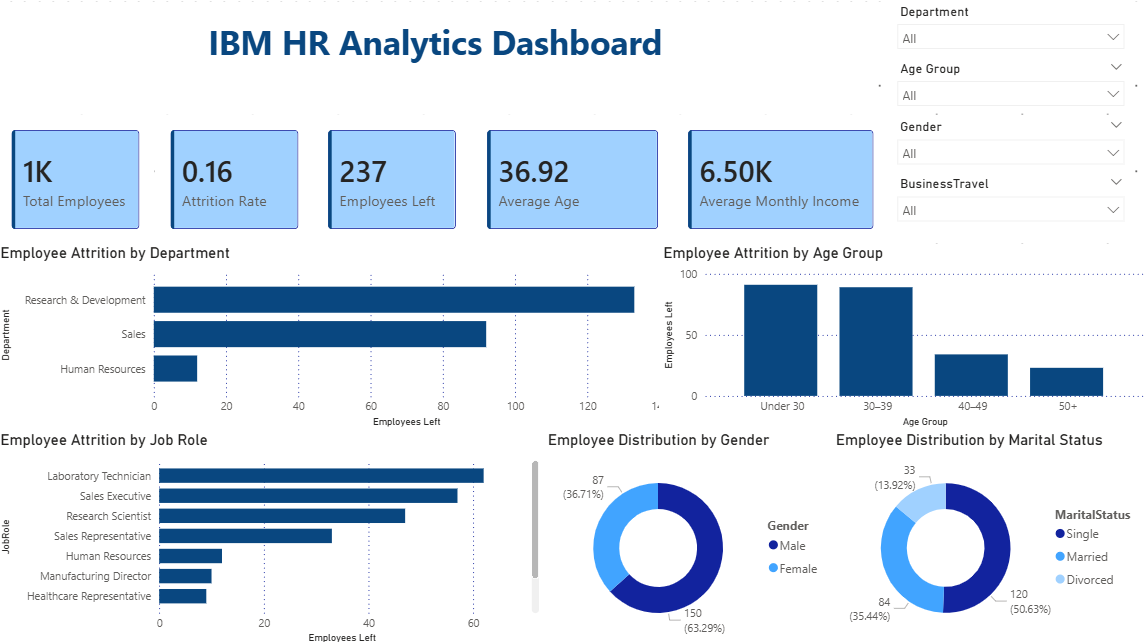

The page's visual inventory and layout, read from the dashboard file:
{"tool":"powerbi","page":{"name":"Executive Overview","canvas":[1280,720],"ordinal":0},"visuals":[{"type":"cardVisual","fields":{"Data":["Employees.Total Employees"]},"box":[0,128,176,144],"z":0},{"type":"cardVisual","fields":{"Data":["Employees.Attrition Rate"]},"box":[176,128,176,144],"z":1000},{"type":"cardVisual","fields":{"Data":["Employees.Employees Left"]},"box":[352,128,176,144],"z":2000},{"type":"cardVisual","fields":{"Data":["Employees.Average Age"]},"box":[528,128,224,144],"z":3000},{"type":"cardVisual","fields":{"Data":["Employees.Average Monthly Income"]},"box":[752,128,240,144],"z":4000},{"type":"clusteredBarChart","title":"Employee Attrition by Department","fields":{"Category":["Employees.Department"],"Y":["Employees.Employees Left"]},"box":[0,272,752,208],"z":5000},{"type":"clusteredBarChart","title":"Employee Attrition by Job Role","fields":{"Category":["Employees.JobRole"],"Y":["Employees.Employees Left"]},"box":[0,480,608,240],"z":6000},{"type":"clusteredColumnChart","title":"Employee Attrition by Age Group","fields":{"Category":["Employees.Age Group"],"Y":["Employees.Employees Left"]},"box":[736,272,544,208],"z":7000},{"type":"donutChart","title":"Employee Distribution by Gender","fields":{"Category":["Employees.Gender"],"Y":["Employees.Employees Left"]},"box":[608,480,320,240],"z":8000},{"type":"donutChart","title":"Employee Distribution by Marital Status","fields":{"Category":["Employees.MaritalStatus"],"Y":["Employees.Employees Left"]},"box":[928,480,352,240],"z":9000},{"type":"slicer","fields":{"Values":["Employees.Department"]},"box":[992,0,272,64],"z":10000},{"type":"slicer","fields":{"Values":["Employees.Gender"]},"box":[992,128,272,96],"z":11000},{"type":"slicer","fields":{"Values":["Employees.BusinessTravel"]},"box":[992,192,272,80],"z":12000},{"type":"slicer","fields":{"Values":["Employees.Age Group"]},"box":[992,64,272,64],"z":13000},{"type":"textbox","box":[0,16,976,112],"z":14000}]}

Visuals, with their boxes in screenshot pixels (x1, y1, x2, y2), scaled from the page's 1280x720 canvas onto the 1144x642 screenshot:
cardVisual - Employees.Total Employees: BBox(0, 114, 157, 243)
cardVisual - Employees.Attrition Rate: BBox(157, 114, 315, 243)
cardVisual - Employees.Employees Left: BBox(315, 114, 472, 243)
cardVisual - Employees.Average Age: BBox(472, 114, 672, 243)
cardVisual - Employees.Average Monthly Income: BBox(672, 114, 887, 243)
"Employee Attrition by Department" clusteredBarChart: BBox(0, 243, 672, 428)
"Employee Attrition by Job Role" clusteredBarChart: BBox(0, 428, 543, 641)
"Employee Attrition by Age Group" clusteredColumnChart: BBox(658, 243, 1143, 428)
"Employee Distribution by Gender" donutChart: BBox(543, 428, 829, 641)
"Employee Distribution by Marital Status" donutChart: BBox(829, 428, 1143, 641)
slicer - Employees.Department: BBox(887, 0, 1130, 57)
slicer - Employees.Gender: BBox(887, 114, 1130, 200)
slicer - Employees.BusinessTravel: BBox(887, 171, 1130, 243)
slicer - Employees.Age Group: BBox(887, 57, 1130, 114)
textbox: BBox(0, 14, 872, 114)
